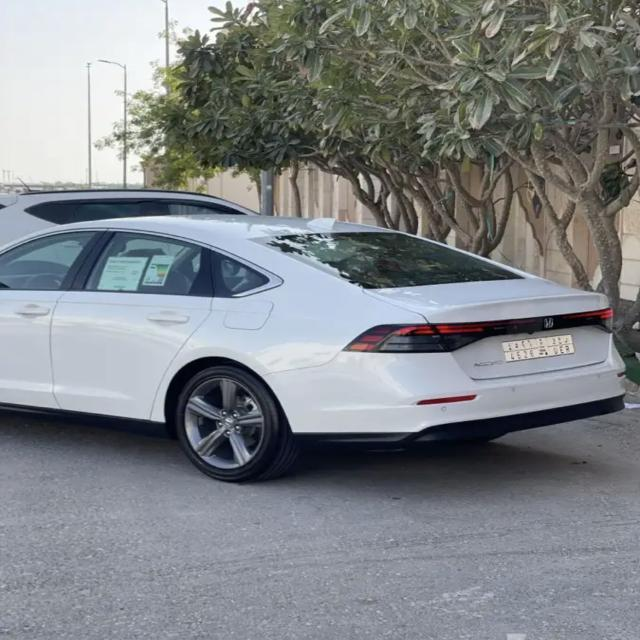license_plate: (499, 334, 574, 366)
